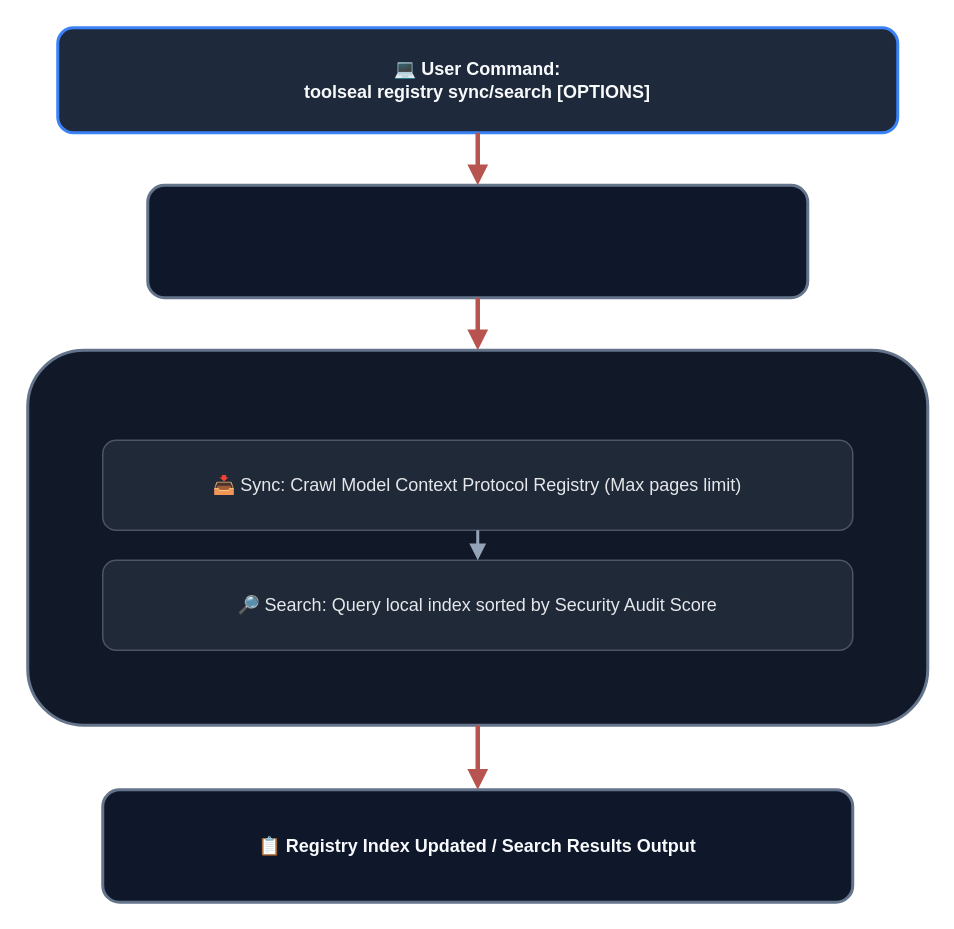
Some shapes in this 954 by 929 pixel diagram are drawn without their labels. The box of each missing label's shape, as (x1, y1, x2, y2) in pixels:
📂 Local Index Management (Static Cache / index.json): (146, 183, 808, 298)
🔄 Operations: (26, 348, 928, 726)
